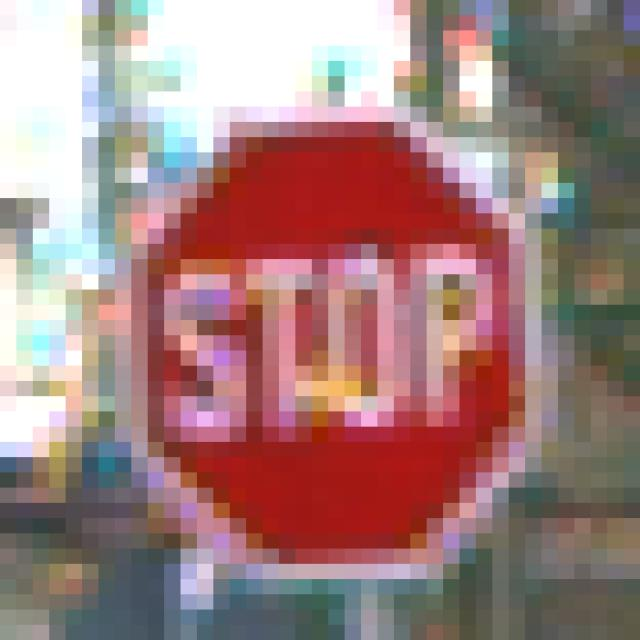STOP: (100, 77, 543, 565)
